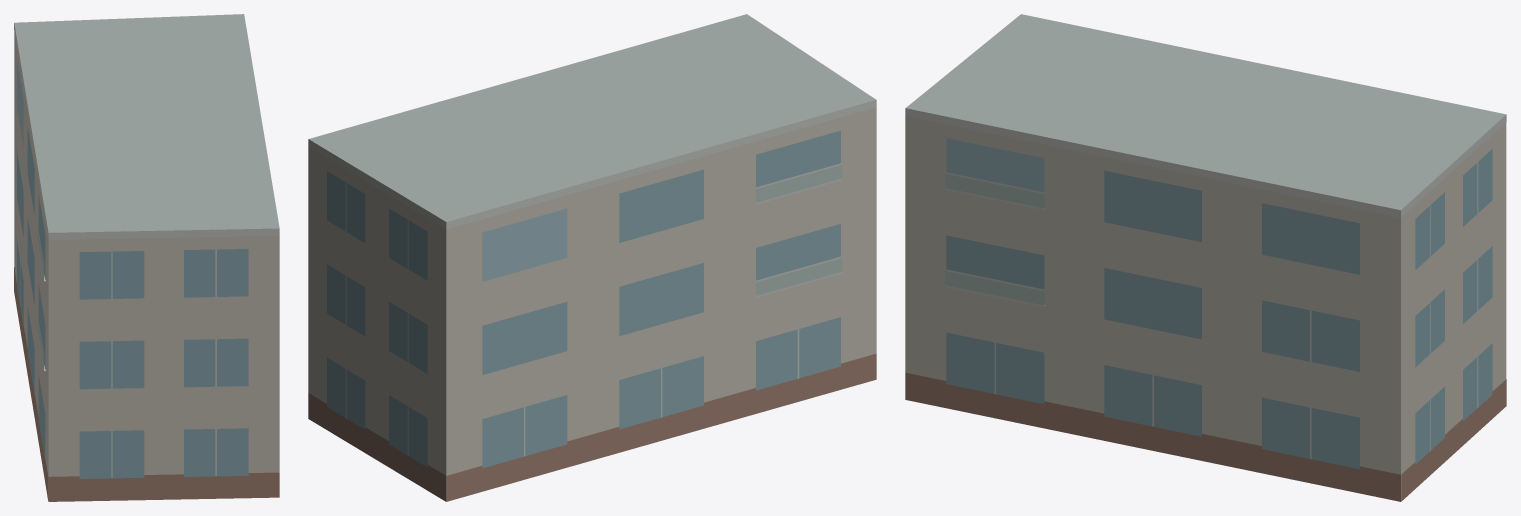
Rendered from survey-upis-32967089.glb.
3 renders of one model, left to right at view 1: azimuth 30°, elevation 25°; view 2: azimuth 150°, elevation 25°; view 3: azimuth 270°, elevation 25°, orthographic. The views are drawn at different scales.
Parts seen in each view (by area): view 1: survey-upis-32967089.tmp; view 2: survey-upis-32967089.tmp; view 3: survey-upis-32967089.tmp.
Part boxes in pixels (box(x1,y1,x2,y2)): survey-upis-32967089.tmp: box(14, 14, 279, 501); survey-upis-32967089.tmp: box(308, 14, 876, 501); survey-upis-32967089.tmp: box(905, 14, 1506, 501).
Size of the model in its own units: 13.21 by 9.15 by 17.1.
